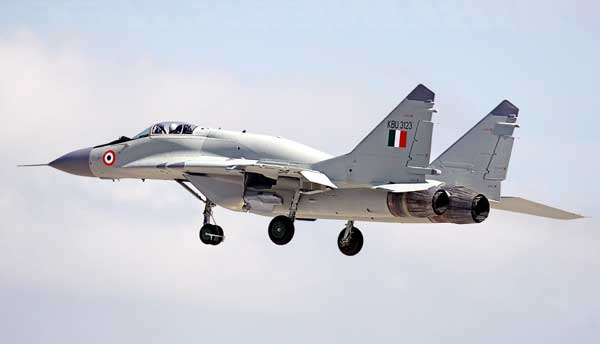Mig-29: (37, 78, 543, 279)
